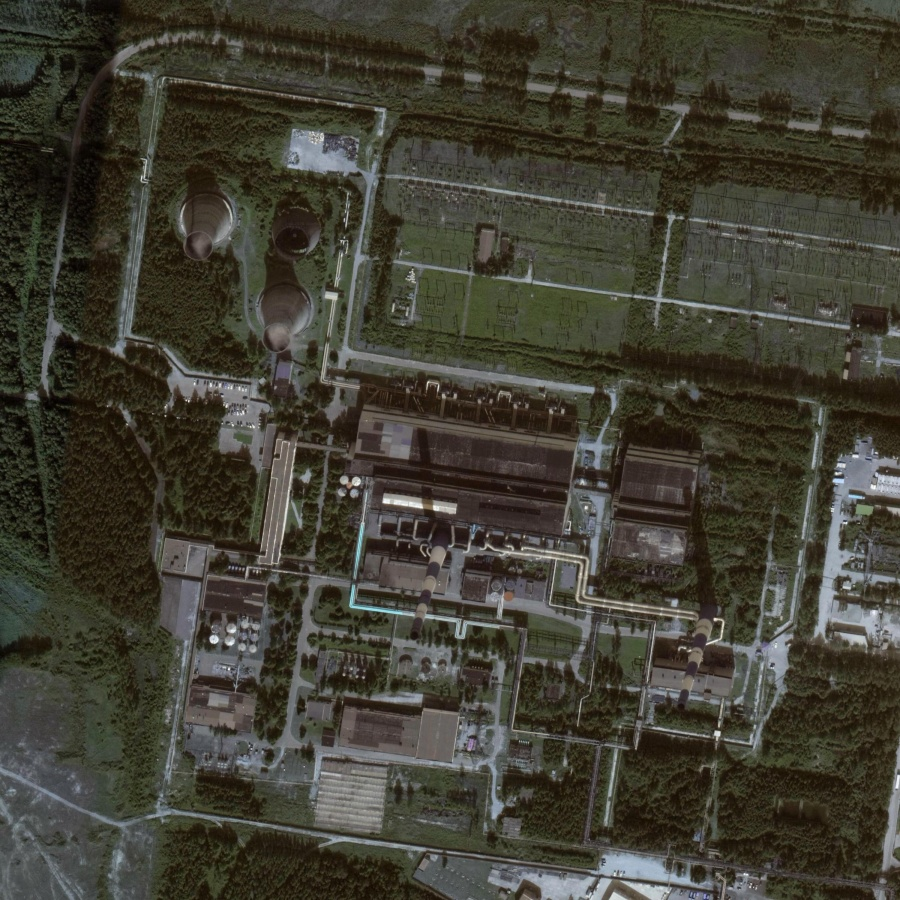PowerPlant: (363, 406, 721, 727), (152, 129, 351, 375)
